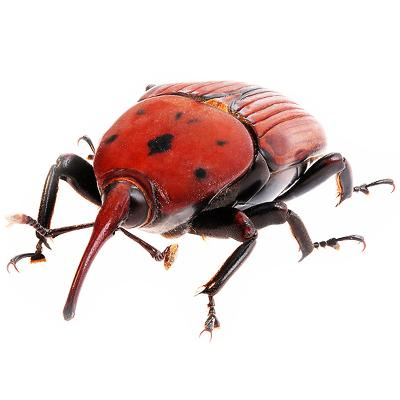Curculionidae: (3, 79, 395, 341)
